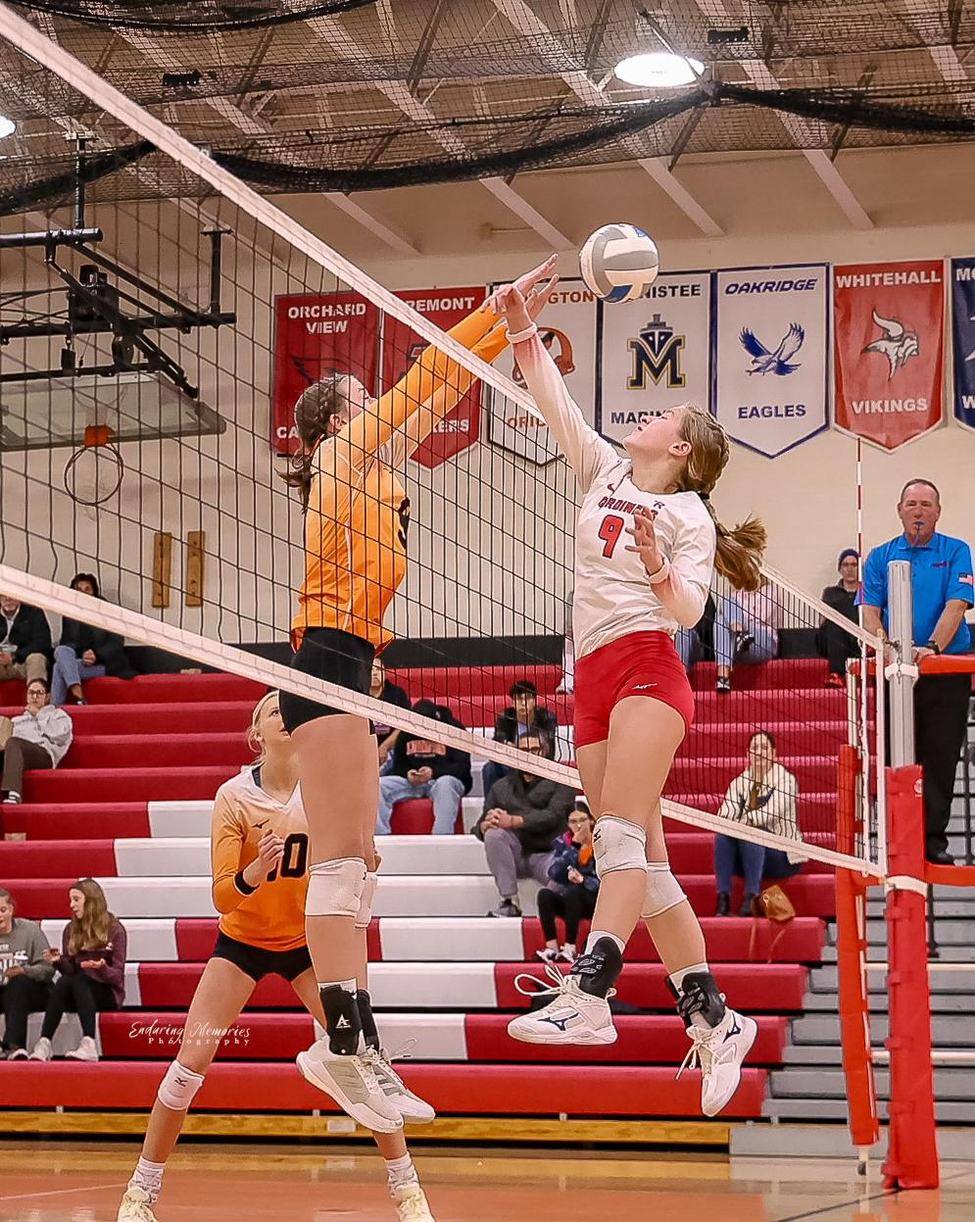ballon_volley: (577, 217, 658, 305)
